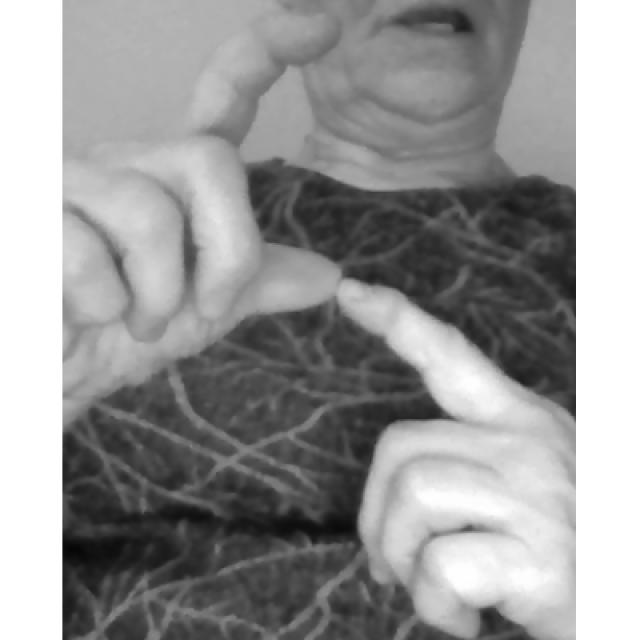S_: (60, 9, 576, 640)
